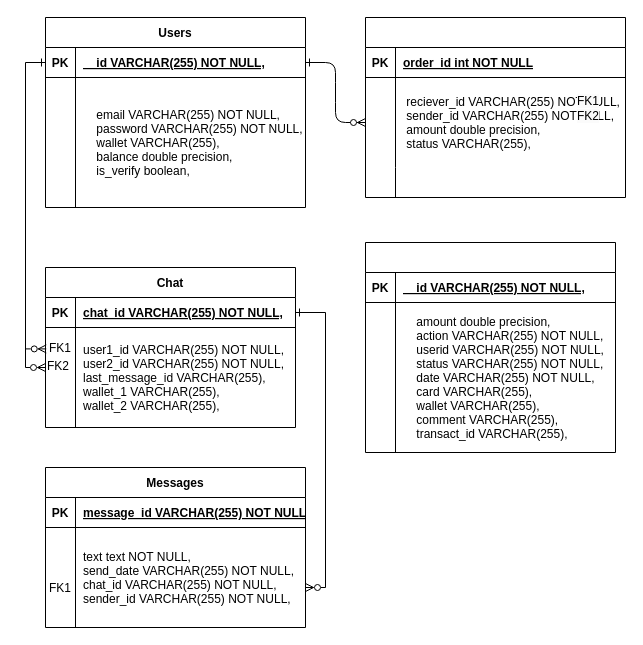
Image size: 643x645. Some labels were removed from this diagram. The box of each missing label's shape, as (x1, y1, x2, y2) in pixels:
History: (364, 242, 616, 452)
Transactions: (364, 16, 626, 198)
